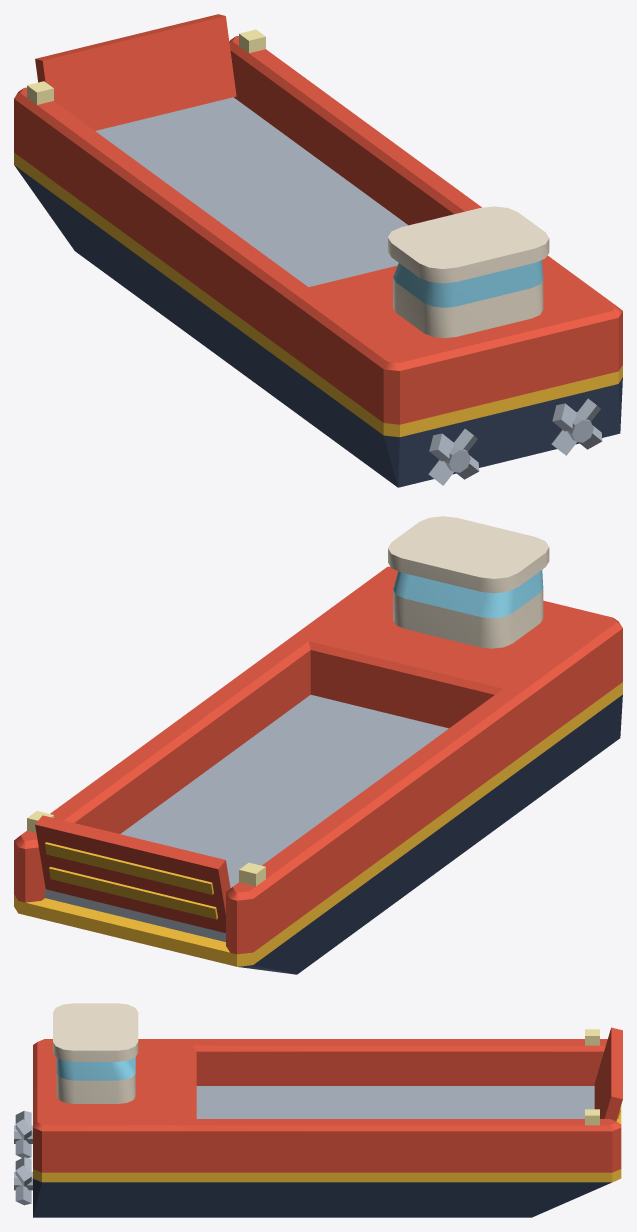
Rendered from unit-landingcraft.glb.
The picture shows the model from 3 angles, top to bottom: view 1: azimuth 30°, elevation 25°; view 2: azimuth 150°, elevation 25°; view 3: azimuth 270°, elevation 25°; orthographic projection. The views are drawn at different scales.
Visible parts, largest first — view 1: hull, cargo_deck, hull_bottom, ramp, roof, boot_stripe, wheelhouse, propeller (×2), windows; view 2: hull, cargo_deck, hull_bottom, ramp, boot_stripe, roof, wheelhouse, windows, ramp_stripe_high, ramp_stripe_low; view 3: hull, hull_bottom, cargo_deck, boot_stripe, roof, ramp, wheelhouse, propeller (×2), windows.
Boxes of the visible parts, x1,y1,x2,y2 form: hull: [14, 36, 622, 424]; cargo_deck: [95, 97, 408, 287]; hull_bottom: [14, 165, 622, 487]; ramp: [35, 14, 236, 130]; roof: [388, 206, 549, 283]; boot_stripe: [14, 152, 622, 437]; wheelhouse: [393, 278, 543, 338]; propeller (×2): [428, 398, 602, 485]; windows: [393, 260, 543, 307]; hull: [14, 566, 622, 954]; cargo_deck: [45, 695, 448, 941]; hull_bottom: [238, 694, 622, 974]; ramp: [35, 815, 230, 933]; boot_stripe: [14, 682, 622, 966]; roof: [388, 516, 549, 593]; wheelhouse: [393, 588, 543, 648]; windows: [393, 570, 543, 618]; ramp_stripe_high: [45, 842, 213, 894]; ramp_stripe_low: [49, 867, 217, 919]; hull: [33, 1039, 621, 1172]; hull_bottom: [33, 1178, 612, 1217]; cargo_deck: [196, 1086, 594, 1118]; boot_stripe: [33, 1106, 621, 1182]; roof: [53, 1003, 138, 1061]; ramp: [594, 1027, 622, 1121]; wheelhouse: [56, 1073, 135, 1103]; propeller (×2): [14, 1111, 32, 1205]; windows: [56, 1057, 135, 1080].
Bounding box in the file's own units: 7 × 5.47 × 20.
